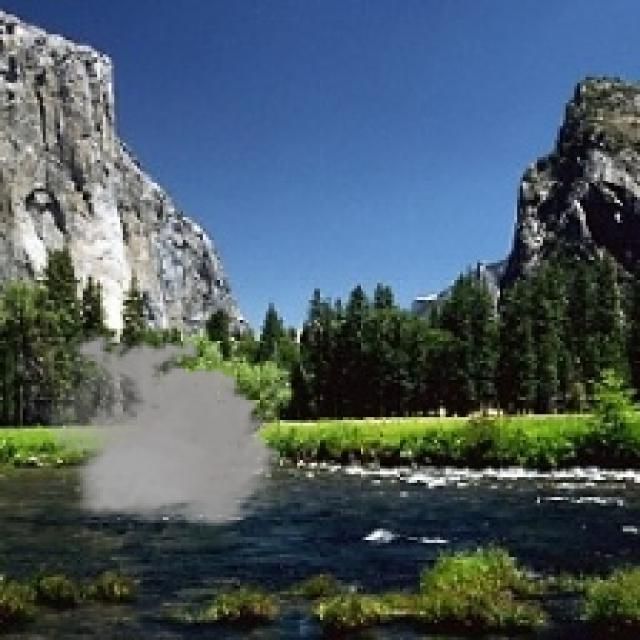smoke: (35, 329, 292, 534)
